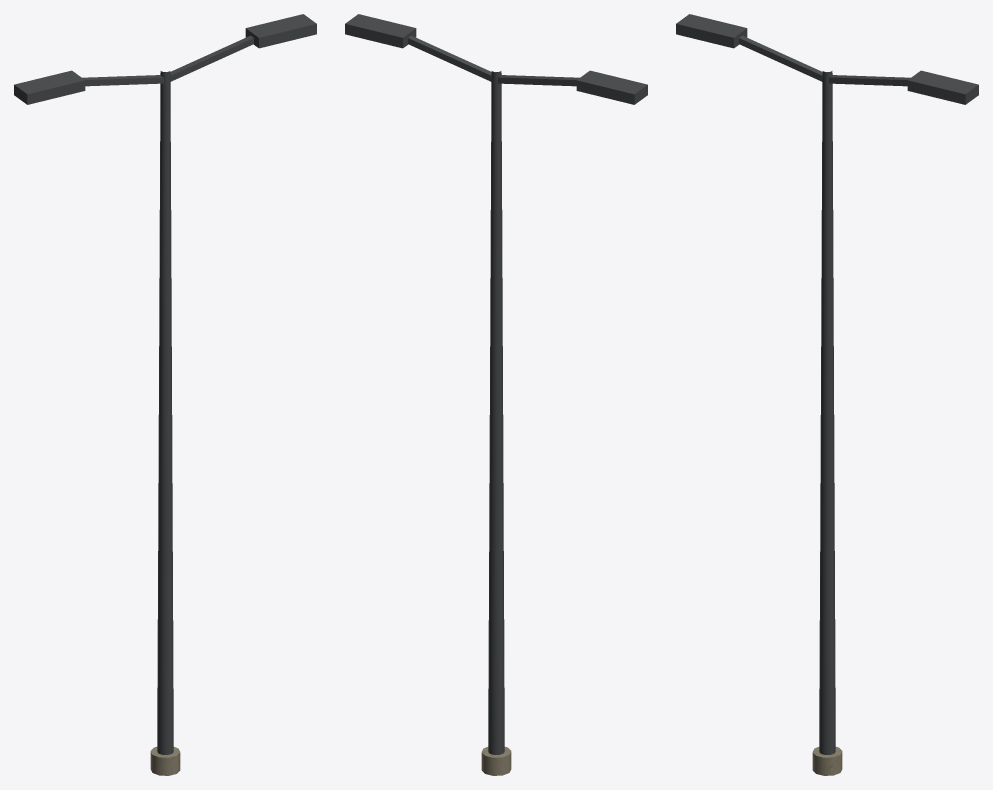
File: lamp_double.glb
The picture shows the model from 3 angles, left to right: view 1: azimuth 30°, elevation 25°; view 2: azimuth 150°, elevation 25°; view 3: azimuth 330°, elevation 25°; orthographic projection.
Parts seen in each view (by area): view 1: lamp_double_body; view 2: lamp_double_body; view 3: lamp_double_body.
Boxes of the visible parts, x1,y1,x2,y2 form: lamp_double_body: (14, 14, 316, 775); lamp_double_body: (345, 14, 647, 775); lamp_double_body: (676, 14, 978, 775).
Size of the model in its own units: 0.2 by 0.4725 by 0.0171.
3 materials, 1 textured.
